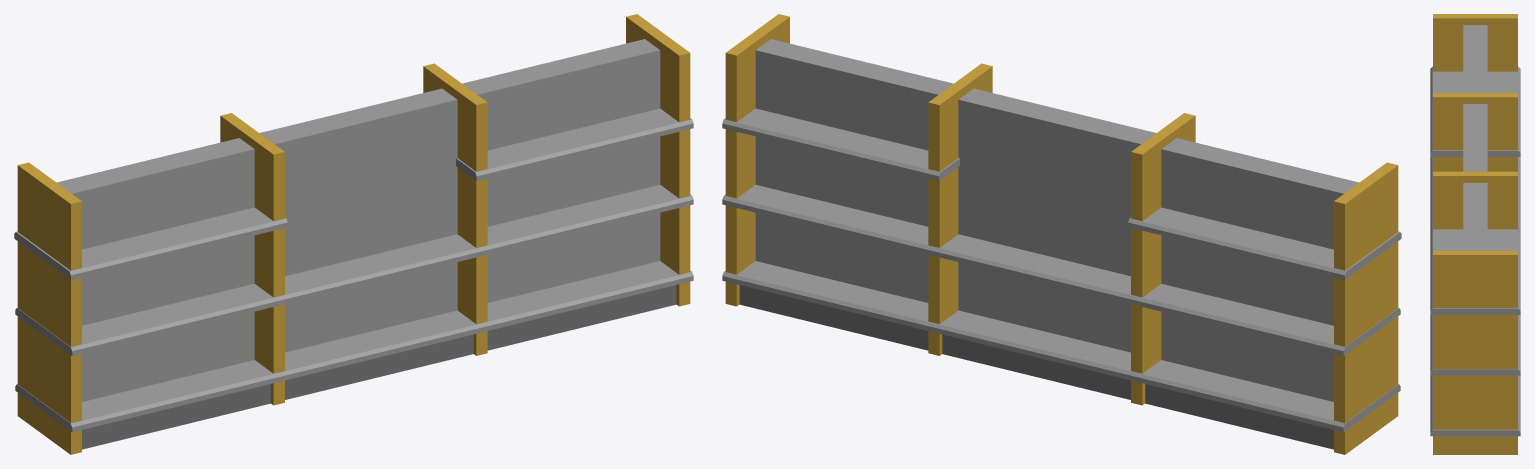
The model's file is Shelf.fbx.
3 views of the same model, side by side, from view 1: azimuth 30°, elevation 25°; view 2: azimuth 150°, elevation 25°; view 3: azimuth 270°, elevation 25° (orthographic). The views are drawn at different scales.
Visible parts, largest first — view 1: Shelf 1.001; view 2: Shelf 1.001; view 3: Shelf 1.001.
Boxes of the visible parts, x1,y1,x2,y2 form: Shelf 1.001: (14,14,693,454); Shelf 1.001: (722,14,1401,454); Shelf 1.001: (1430,14,1520,454).
Size of the model in its own units: 806 by 311 by 127.
